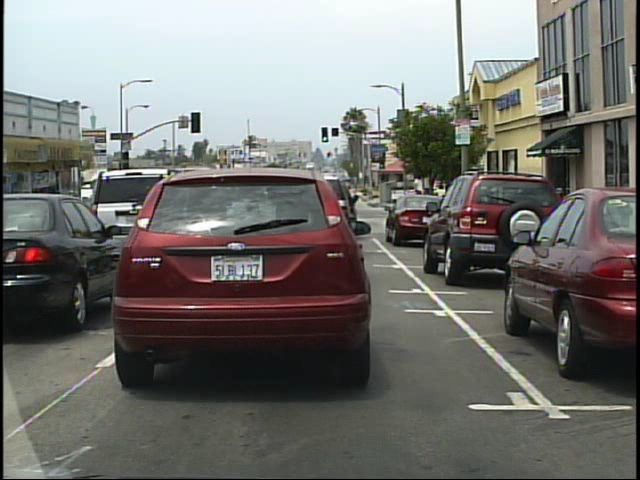person: (420, 188, 432, 223), (418, 190, 427, 222)
